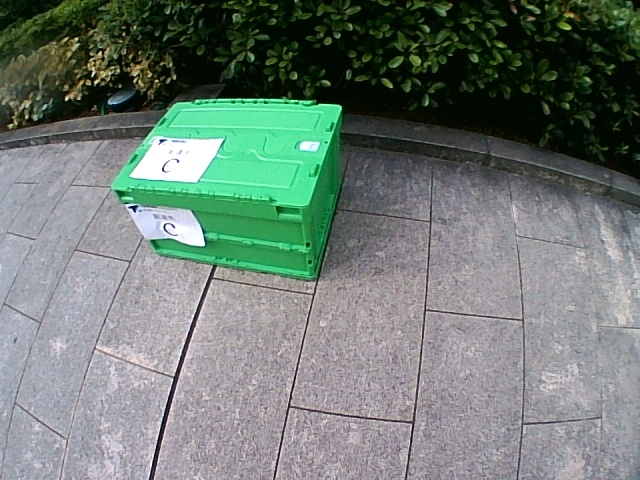blue_box: (111, 98, 342, 281)
tag_c: (155, 140, 200, 181), (143, 209, 192, 239)
